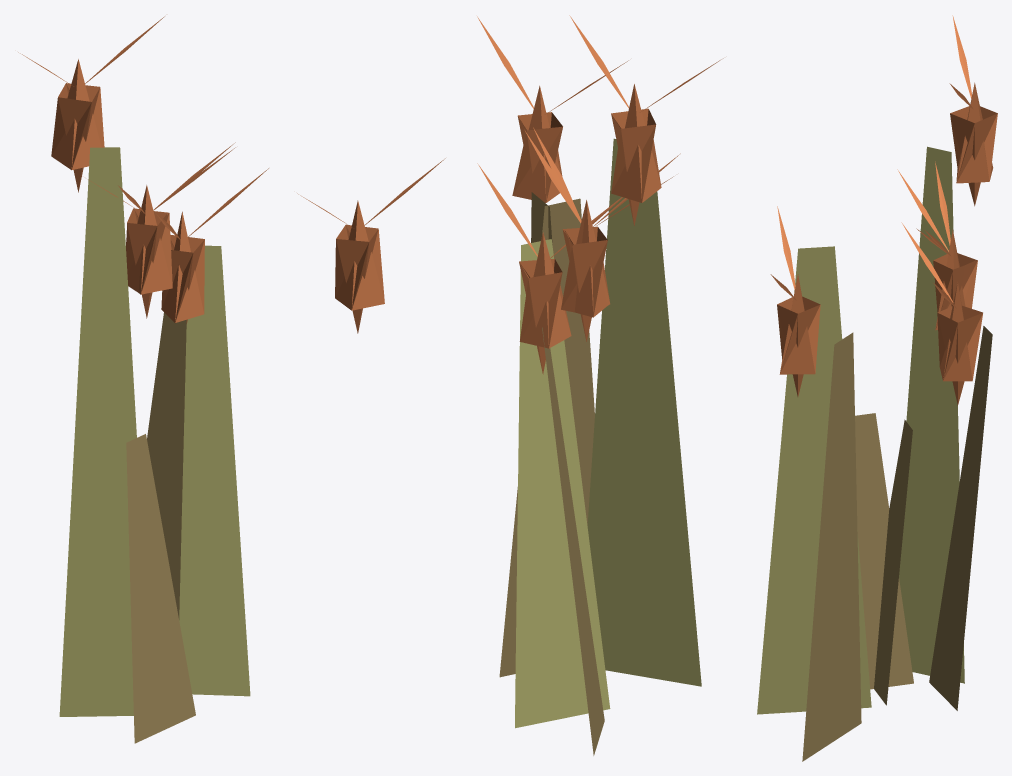
The model's file is nong.mai@fruiting__autumn.glb.
3 views of the same model, side by side, from view 1: azimuth 30°, elevation 25°; view 2: azimuth 150°, elevation 25°; view 3: azimuth 270°, elevation 25° (orthographic). The views are drawn at different scales.
Parts seen in each view (by area): view 1: nong.mai@fruiting__autumn; view 2: nong.mai@fruiting__autumn; view 3: nong.mai@fruiting__autumn.
Boxes of the visible parts, bbox=[...] form: nong.mai@fruiting__autumn: bbox=[18, 16, 445, 743]; nong.mai@fruiting__autumn: bbox=[477, 15, 723, 755]; nong.mai@fruiting__autumn: bbox=[757, 15, 997, 761].
Bounding box in the file's own units: 0.5635 × 1.09 × 0.3787.
